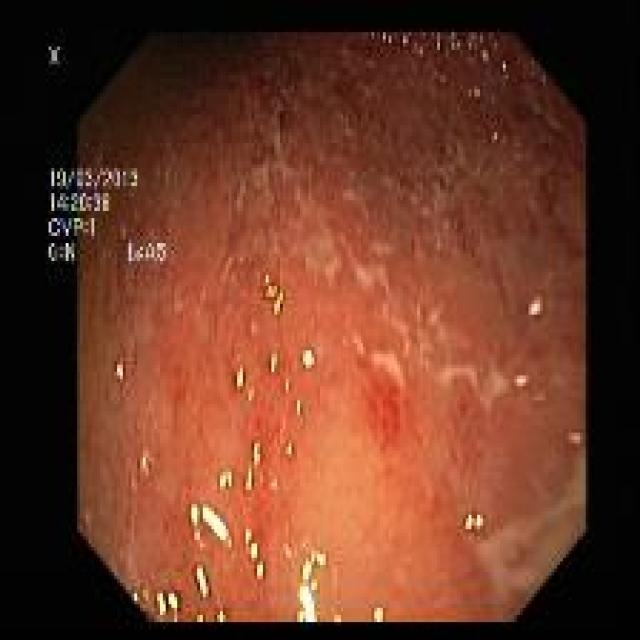ulcerative-colitis: (80, 34, 585, 623)
